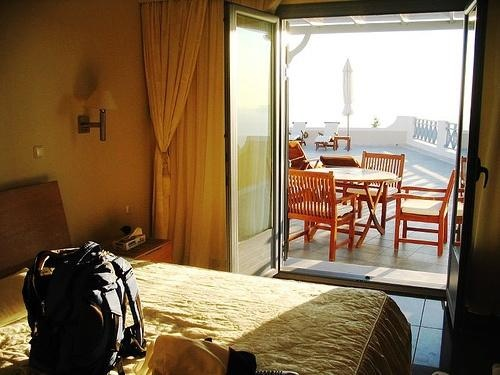chair: (287, 167, 356, 262), (391, 167, 456, 258), (341, 150, 408, 234)
